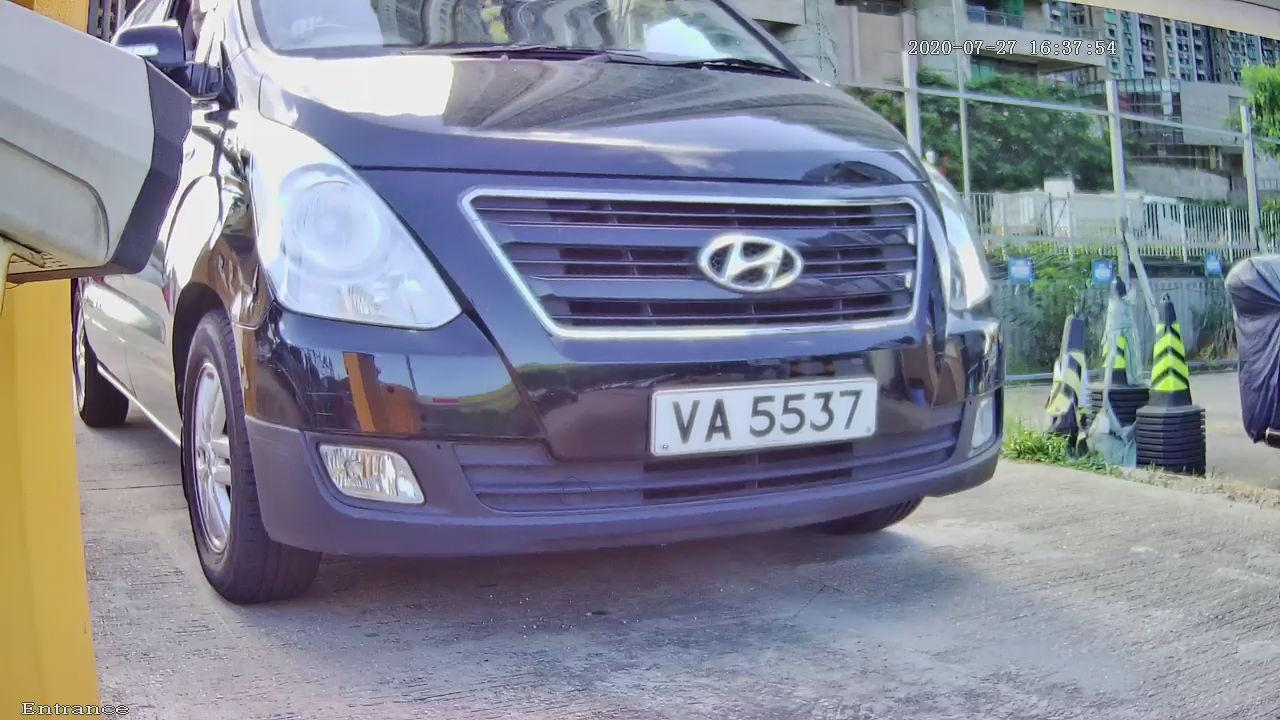privatecar: (63, 36, 1121, 611)
